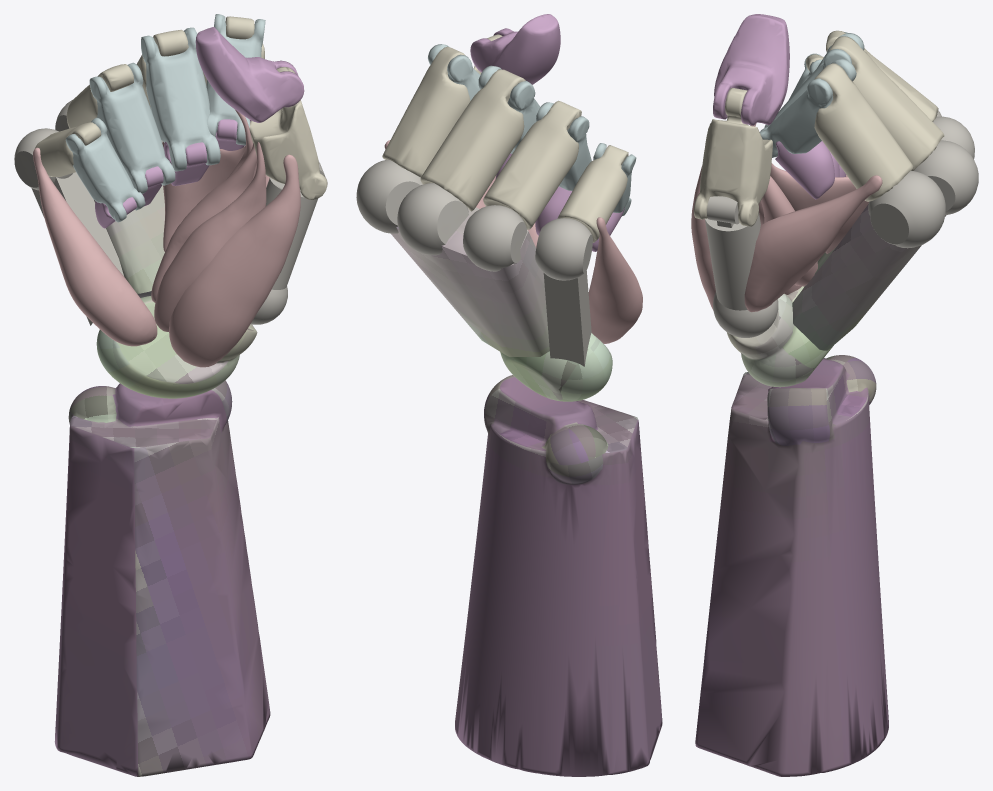
Rendered from 手_20260324203417_opt.glb.
3 views of the same model, side by side, from view 1: azimuth 30°, elevation 25°; view 2: azimuth 150°, elevation 25°; view 3: azimuth 270°, elevation 25° (orthographic). The views are drawn at different scales.
Visible parts, largest first — view 1: box, mm, pirkstgali003, pirkstgali001, pirkstgali002, cub001; view 2: box, pirkstgali001, cub001, pirkstgali002, mm, pirkstgali003; view 3: box, pirkstgali001, cub001, mm, pirkstgali002, pirkstgali003.
Part boxes in pixels (left/top/right/bottom): box: left=54, top=140, right=270, bottom=776; mm: left=33, top=110, right=300, bottom=367; pirkstgali003: left=65, top=14, right=265, bottom=222; pirkstgali001: left=34, top=16, right=327, bottom=199; pirkstgali002: left=95, top=27, right=304, bottom=228; cub001: left=14, top=100, right=325, bottom=325; box: left=391, top=207, right=662, bottom=776; pirkstgali001: left=382, top=34, right=628, bottom=242; cub001: left=356, top=159, right=592, bottom=366; pirkstgali002: left=470, top=14, right=624, bottom=251; mm: left=384, top=140, right=642, bottom=343; pirkstgali003: left=428, top=44, right=636, bottom=216; box: left=695, top=204, right=946, bottom=776; pirkstgali001: left=694, top=30, right=944, bottom=226; cub001: left=705, top=110, right=978, bottom=337; mm: left=691, top=123, right=882, bottom=312; pirkstgali002: left=713, top=14, right=846, bottom=199; pirkstgali003: left=759, top=32, right=864, bottom=157.
Bounding box in the file's own units: 0.1445 × 0.4 × 0.1429.
Materials: 6 (1 with a texture image).
